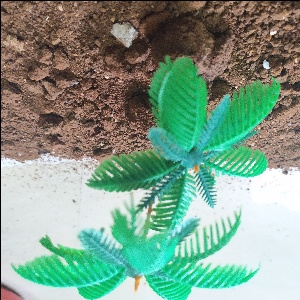plant: (3, 51, 280, 290)
